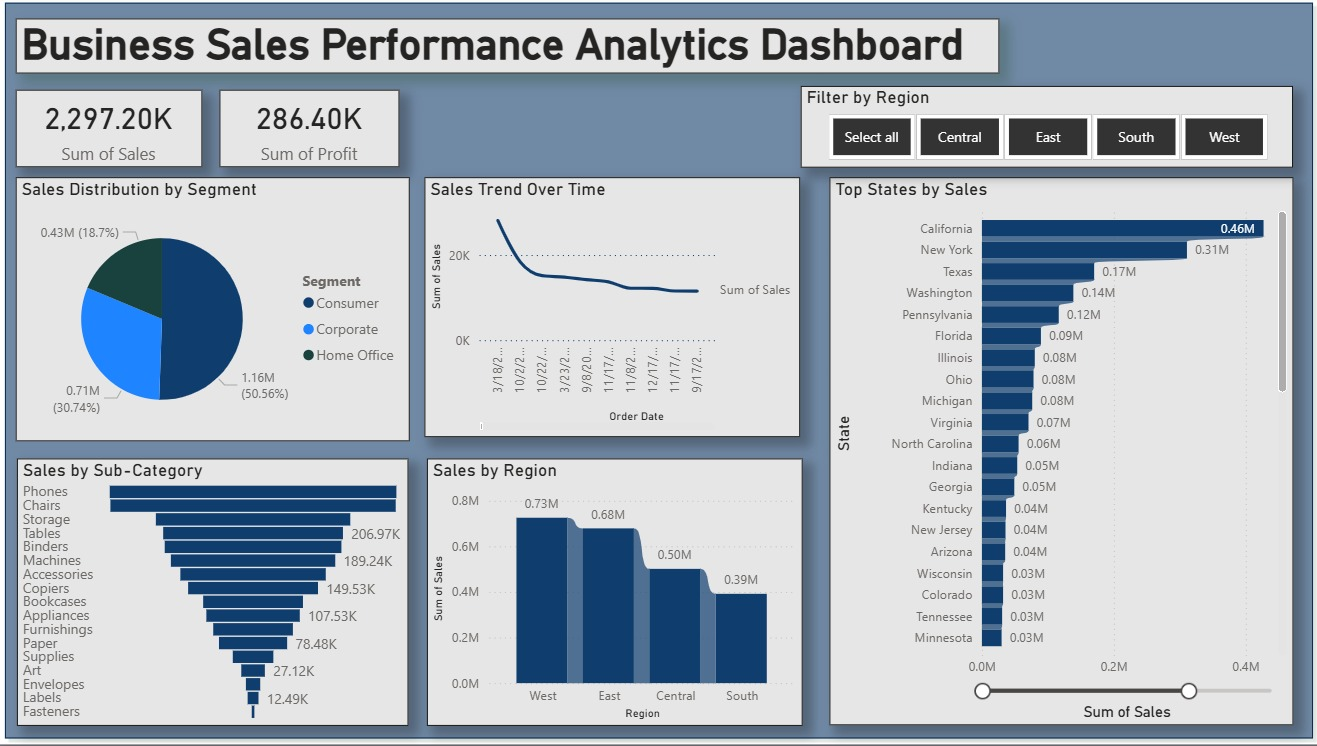

Layout of this report page (visuals, bound fields, positions):
{"tool":"powerbi","page":{"name":"Page 2","canvas":[1280,720],"ordinal":0},"visuals":[{"type":"shape","box":[10.2,0,1269.8,720],"z":0},{"type":"textbox","title":"Business Sales Performance Analytics Dashboard","box":[27.2,22.1,944.7,52.8],"z":1},{"type":"card","fields":{"Values":["Sum(Sample - Superstore2.Sales)"]},"box":[27.2,90.2,178.7,68.1],"z":3},{"type":"card","fields":{"Values":["Sum(Sample - Superstore2.Profit)"]},"box":[223.7,90.6,172.9,67.2],"z":4},{"type":"lineChart","title":"Sales Trend Over Time","fields":{"Category":["Sample - Superstore2.Order Date"],"Y":["Sum(Sample - Superstore2.Sales)"]},"box":[419.9,174.3,360.9,249.7],"z":5},{"type":"barChart","title":"Top States by Sales","fields":{"Y":["Sum(Sample - Superstore2.Sales)"],"Category":["Sample - Superstore2.State"]},"box":[809.3,174.4,445.4,526.7],"z":6},{"type":"funnel","title":"Sales by Sub-Category","fields":{"Category":["Sample - Superstore2.Sub-Category"],"Y":["Sum(Sample - Superstore2.Sales)"]},"box":[20.4,444.3,376.2,257],"z":7},{"type":"columnChart","title":"Sales by Region","fields":{"Category":["Sample - Superstore2.Region"],"Y":["Sum(Sample - Superstore2.Sales)"]},"box":[422.1,444.2,360.5,257],"z":8},{"type":"slicer","title":"Filter by Region","fields":{"Values":["Sample - Superstore2.Region"]},"box":[781.3,86.8,473.2,78.3],"z":9},{"type":"pieChart","title":"Sales Distribution by Segment","fields":{"Category":["Sample - Superstore2.Segment"],"Y":["Sum(Sample - Superstore2.Sales)"]},"box":[27.4,174.3,378.7,253.9],"z":10}]}

Visuals, with their boxes in screenshot pixels (x1, y1, x2, y2), scaled from the page's 1280x720 canvas onto the 1317x746 screenshot:
shape: <box>10,0,1316,745</box>
"Business Sales Performance Analytics Dashboard" textbox: <box>28,23,1000,78</box>
card - Sum(Sample - Superstore2.Sales): <box>28,93,212,164</box>
card - Sum(Sample - Superstore2.Profit): <box>230,94,408,163</box>
"Sales Trend Over Time" lineChart: <box>432,181,803,439</box>
"Top States by Sales" barChart: <box>833,181,1291,726</box>
"Sales by Sub-Category" funnel: <box>21,460,408,727</box>
"Sales by Region" columnChart: <box>434,460,805,727</box>
"Filter by Region" slicer: <box>804,90,1291,171</box>
"Sales Distribution by Segment" pieChart: <box>28,181,418,444</box>
